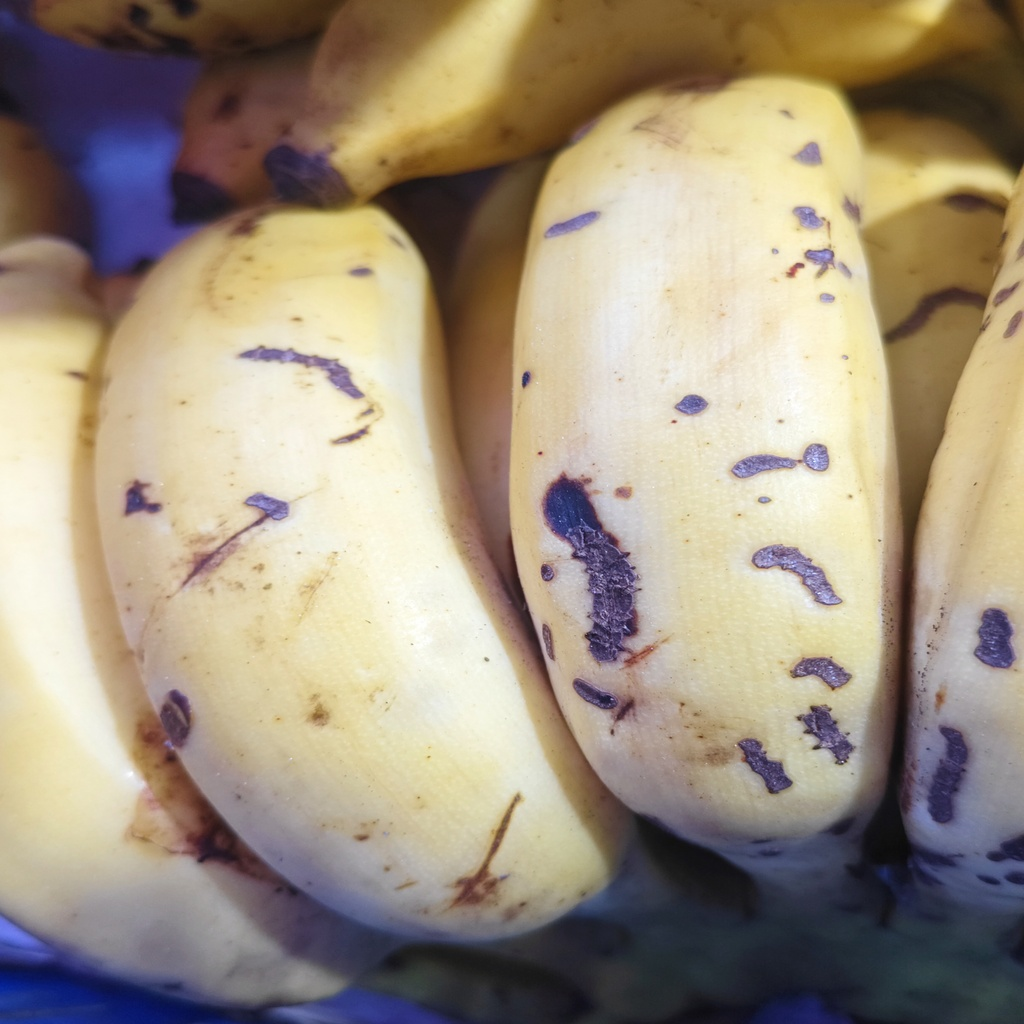unhealthy: (94, 200, 594, 948), (508, 75, 902, 862)
